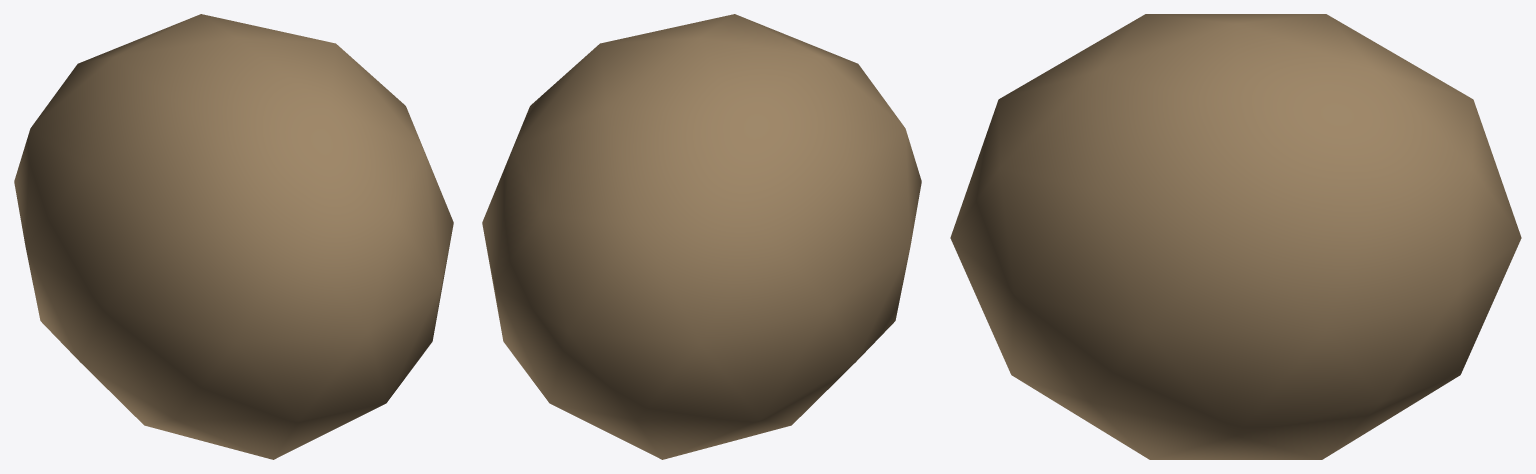
Rendered from coconut.glb.
3 views of the same model, side by side, from view 1: azimuth 30°, elevation 25°; view 2: azimuth 150°, elevation 25°; view 3: azimuth 270°, elevation 25° (orthographic). The views are drawn at different scales.
Parts seen in each view (by area): view 1: CoconutMesh; view 2: CoconutMesh; view 3: CoconutMesh.
Part boxes in pixels (x1,y1,x2,y2): CoconutMesh: [14, 14, 453, 459]; CoconutMesh: [482, 14, 921, 459]; CoconutMesh: [950, 14, 1521, 459].
Bounding box in the file's own units: 0.245 × 0.266 × 0.322.
